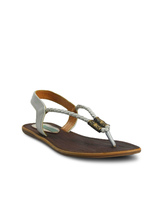shoes: (7, 79, 145, 162)
